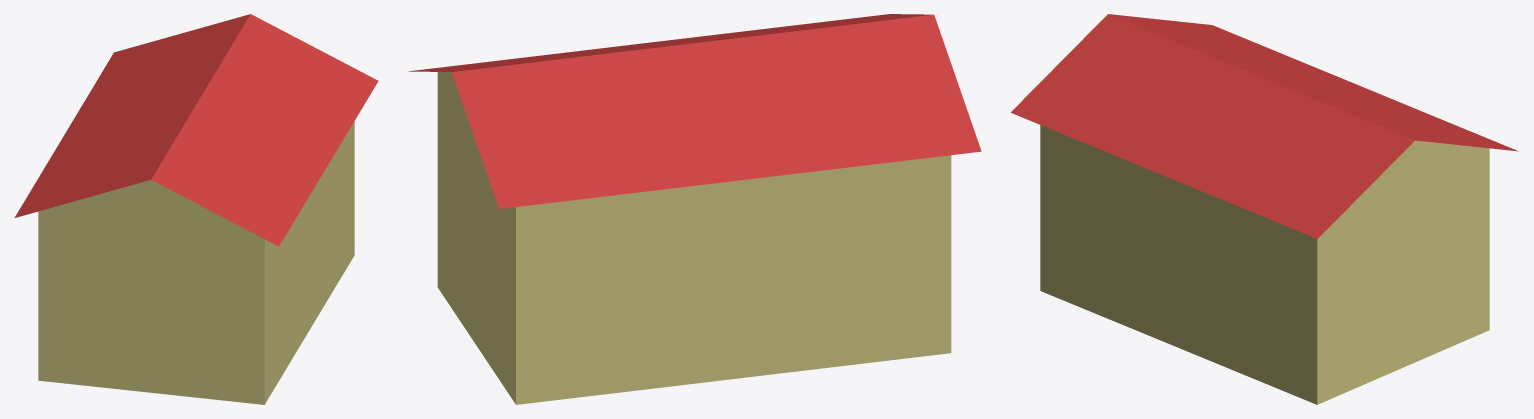
The picture shows the model from 3 angles, left to right: view 1: azimuth 30°, elevation 25°; view 2: azimuth 150°, elevation 25°; view 3: azimuth 270°, elevation 25°; orthographic projection. The views are drawn at different scales.
Bounding box in the file's own units: 18.03 × 18.12 × 9.22.
